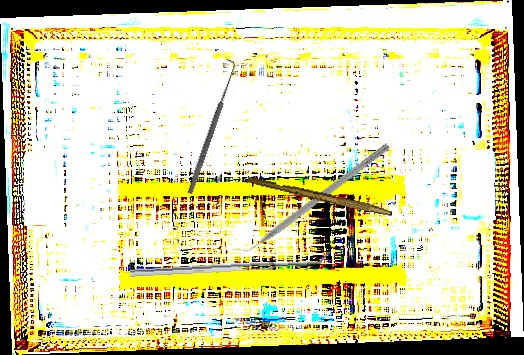Chopper: (230, 134, 391, 262)
Hook Surgical: (181, 59, 240, 195)
Scalpel Handle: (246, 175, 394, 217)
Spatula Surgical: (129, 251, 332, 277)
